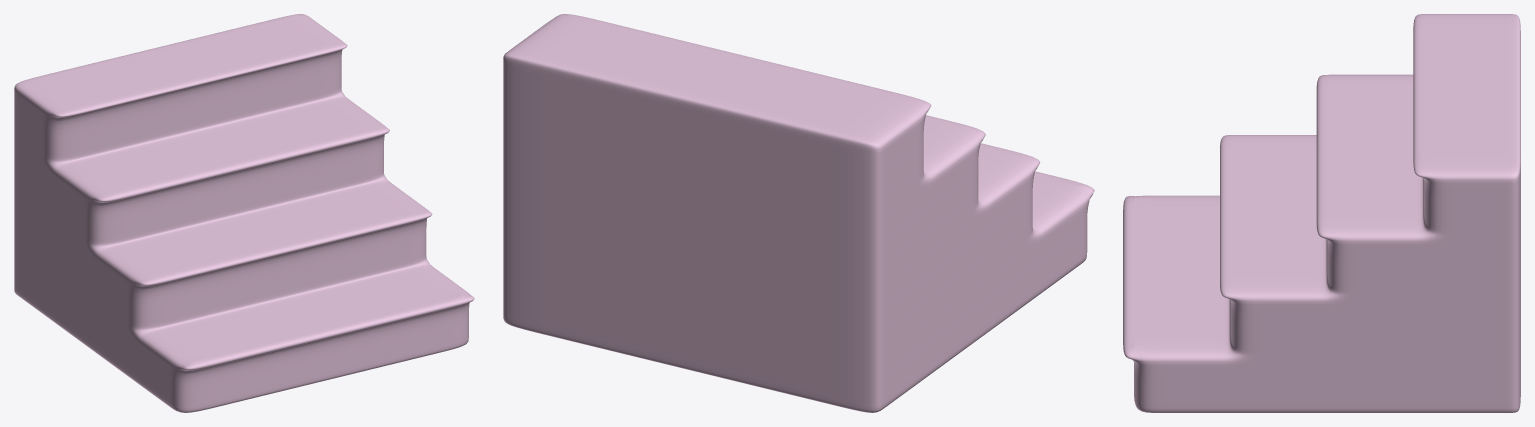
The model's file is stairs.fbx.
3 renders of one model, left to right at view 1: azimuth 30°, elevation 25°; view 2: azimuth 150°, elevation 25°; view 3: azimuth 270°, elevation 25°, orthographic. The views are drawn at different scales.
Parts seen in each view (by area): view 1: Cube; view 2: Cube; view 3: Cube.
Part boxes in pixels (x1=…): Cube: x1=14, y1=14, x2=474, y2=412; Cube: x1=503, y1=14, x2=1094, y2=412; Cube: x1=1123, y1=14, x2=1520, y2=412.
Bounding box in the file's own units: 291 × 200 × 299.
